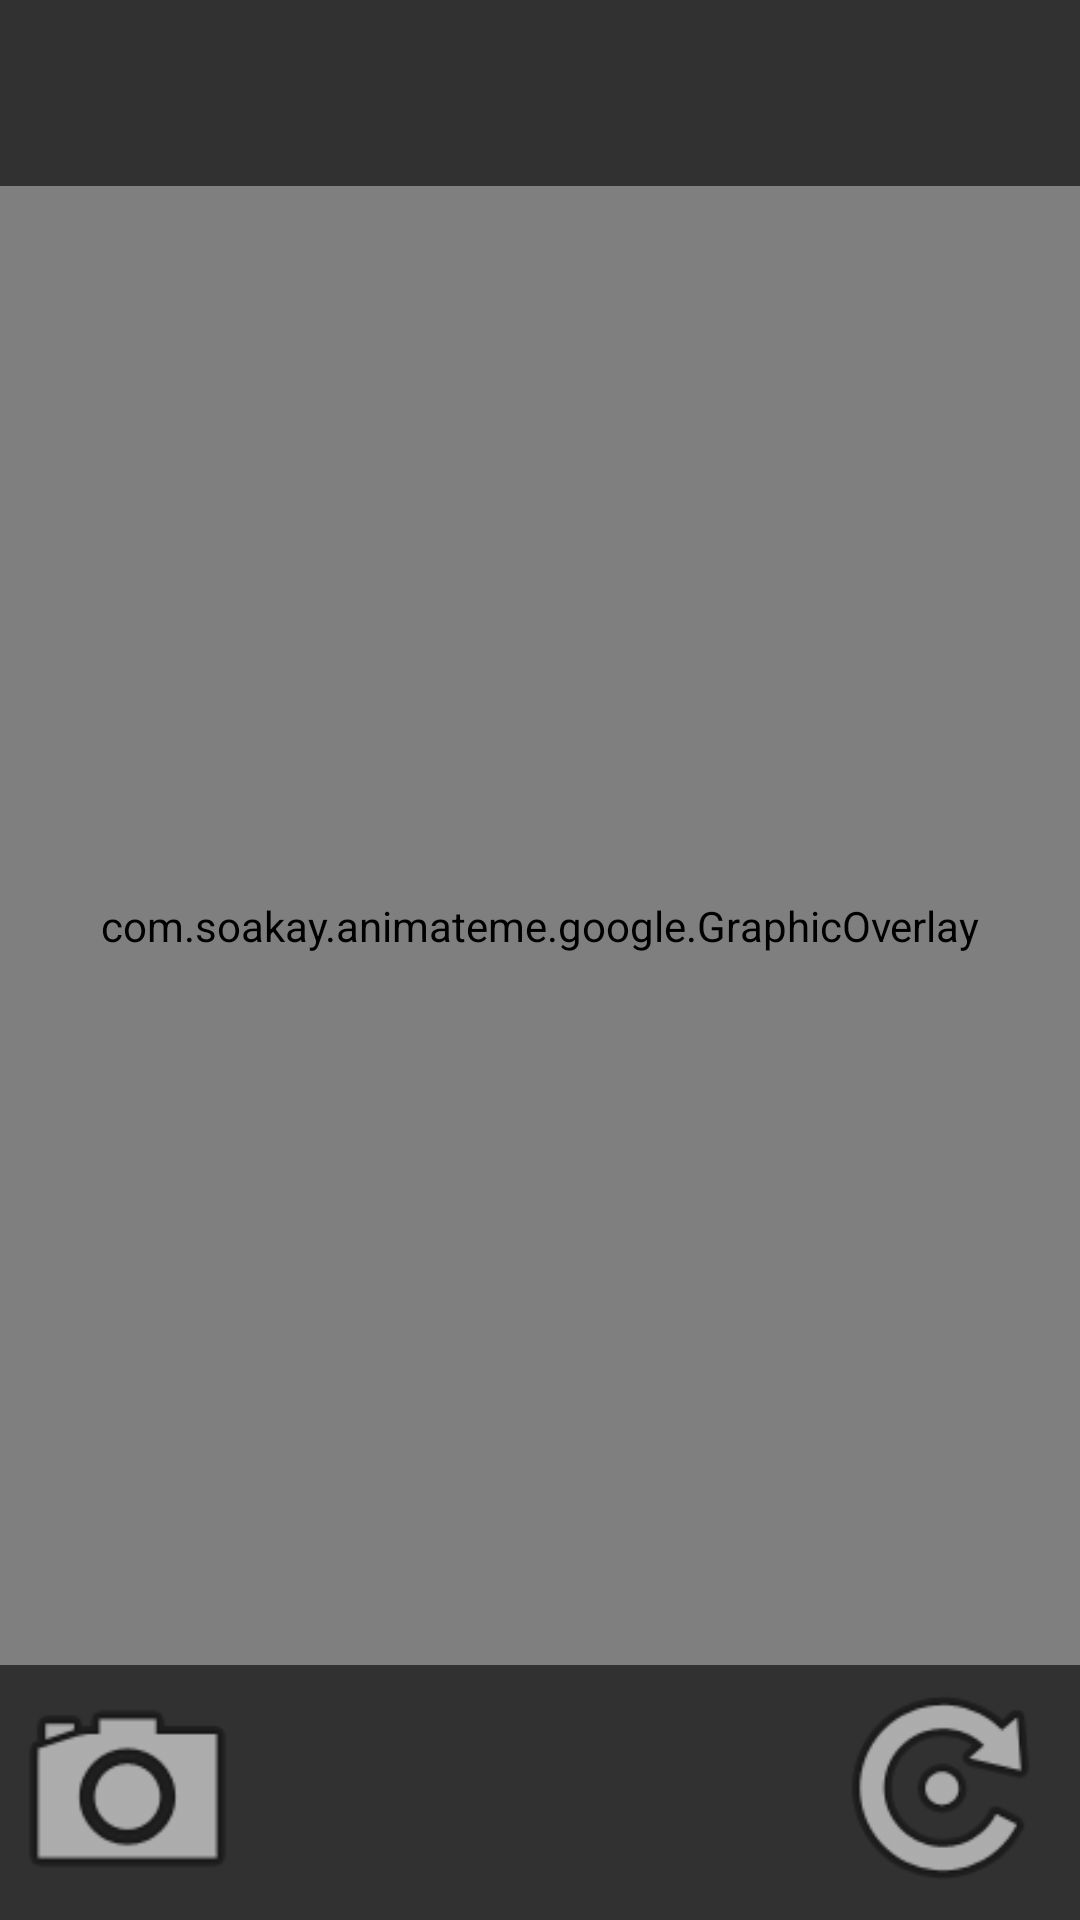

Named icons in this screenshot (1080w x 1920h) and their centers, [x,y]:
camera: [127,1788]
rotate: [940,1788]
